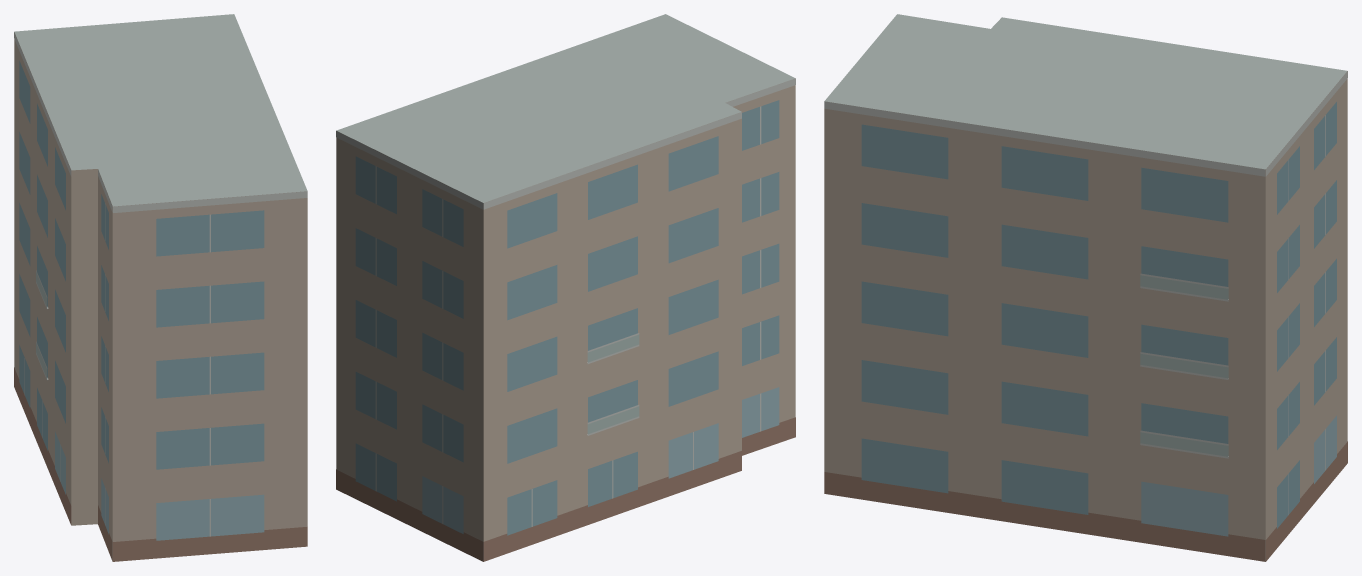
The model's file is survey-upis-32854297.glb.
3 views of the same model, side by side, from view 1: azimuth 30°, elevation 25°; view 2: azimuth 150°, elevation 25°; view 3: azimuth 270°, elevation 25° (orthographic). The views are drawn at different scales.
Visible parts, largest first — view 1: survey-upis-32854297.tmp; view 2: survey-upis-32854297.tmp; view 3: survey-upis-32854297.tmp.
Boxes of the visible parts, x1,y1,x2,y2 form: survey-upis-32854297.tmp: (14, 14, 307, 561); survey-upis-32854297.tmp: (336, 14, 795, 561); survey-upis-32854297.tmp: (824, 14, 1347, 561).
Size of the model in its own units: 11.05 by 13 by 15.72.
